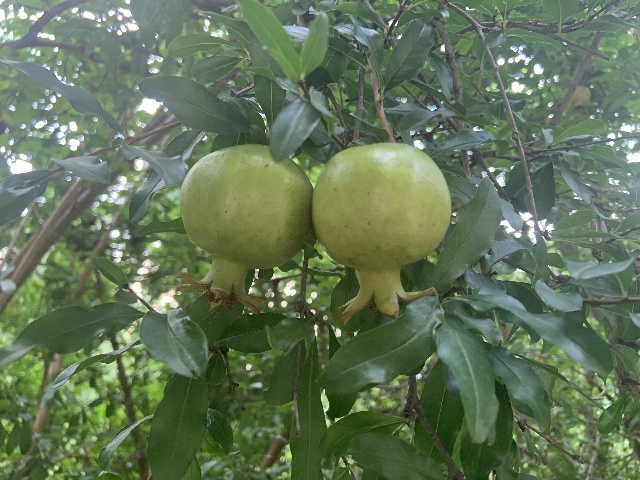mid-growth: (311, 141, 451, 323), (174, 143, 313, 315), (570, 86, 591, 111)
